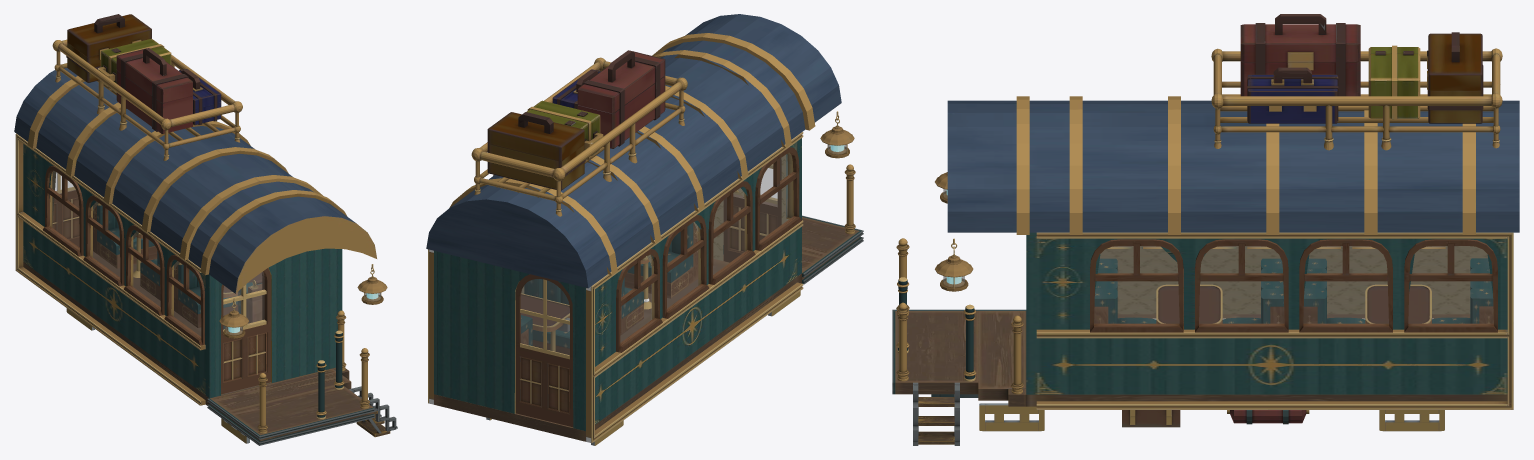
File: wagon.glb
3 renders of one model, left to right at view 1: azimuth 30°, elevation 25°; view 2: azimuth 150°, elevation 25°; view 3: azimuth 270°, elevation 25°, orthographic. The views are drawn at different scales.
Visible parts, largest first — view 1: big krisha.001_krisha_0, object 72, object 75, perednyy krisha _krisha pered_0, Cube.051_under_0, Cube.052_stavni_0, big krisha_kreplenie krishi_0, Cylinder.015_obivka_0, Cube.121_glass_0, Cube.091_red chemodan _0, Cylinder.040_bagage_0, Cube.116_orange chemodan _0 (+22 smaller); view 2: big krisha.001_krisha_0, object 75, object 72, Cube.052_stavni_0, Cube.121_glass_0, Cylinder.015_obivka_0, Cube.051_under_0, Cylinder.040_bagage_0, big krisha_kreplenie krishi_0, Cube.116_orange chemodan _0, Cube.091_red chemodan _0, perednyy krisha _krisha pered_0 (+19 smaller); view 3: big krisha.001_krisha_0, object 72, Cube.089_glass_0, Cube.051_under_0, Cube.112_stavni_0, Cylinder.074_obivka_0, object 73, perednyy krisha _krisha pered_0, Cylinder.040_bagage_0, big krisha_kreplenie krishi_0, Cube.091_red chemodan _0, Cube.116_orange chemodan _0 (+19 smaller).
Boxes of the visible parts, left/top/right/bottom form: big krisha.001_krisha_0: left=14, top=68, right=313, bottom=267; object 72: left=23, top=144, right=209, bottom=397; object 75: left=209, top=248, right=342, bottom=397; perednyy krisha _krisha pered_0: left=209, top=196, right=376, bottom=293; Cube.051_under_0: left=23, top=251, right=373, bottom=441; Cube.052_stavni_0: left=43, top=166, right=204, bottom=345; big krisha_kreplenie krishi_0: left=27, top=76, right=322, bottom=259; Cylinder.015_obivka_0: left=15, top=133, right=205, bottom=405; Cube.121_glass_0: left=50, top=171, right=200, bottom=335; Cube.091_red chemodan _0: left=116, top=48, right=192, bottom=133; Cylinder.040_bagage_0: left=52, top=39, right=242, bottom=160; Cube.116_orange chemodan _0: left=66, top=14, right=151, bottom=82; big krisha.001_krisha_0: left=426, top=40, right=805, bottom=288; object 75: left=434, top=245, right=723, bottom=431; object 72: left=595, top=138, right=801, bottom=424; Cube.052_stavni_0: left=616, top=147, right=801, bottom=352; Cube.121_glass_0: left=621, top=153, right=792, bottom=341; Cylinder.015_obivka_0: left=586, top=132, right=803, bottom=443; Cube.051_under_0: left=434, top=217, right=859, bottom=441; Cylinder.040_bagage_0: left=471, top=57, right=687, bottom=216; big krisha_kreplenie krishi_0: left=449, top=50, right=791, bottom=274; Cube.116_orange chemodan _0: left=487, top=112, right=585, bottom=190; Cube.091_red chemodan _0: left=577, top=50, right=665, bottom=148; perednyy krisha _krisha pered_0: left=685, top=14, right=841, bottom=122; big krisha.001_krisha_0: left=1029, top=100, right=1519, bottom=232; object 72: left=1026, top=232, right=1507, bottom=394; Cube.089_glass_0: left=1094, top=246, right=1493, bottom=322; Cube.051_under_0: left=895, top=311, right=1507, bottom=406; Cube.112_stavni_0: left=1090, top=239, right=1497, bottom=332; Cylinder.074_obivka_0: left=1036, top=232, right=1513, bottom=409; object 73: left=1100, top=246, right=1487, bottom=322; perednyy krisha _krisha pered_0: left=947, top=100, right=1016, bottom=232; Cylinder.040_bagage_0: left=1211, top=48, right=1502, bottom=150; big krisha_kreplenie krishi_0: left=1069, top=96, right=1475, bottom=234; Cube.091_red chemodan _0: left=1240, top=14, right=1360, bottom=96; Cube.116_orange chemodan _0: left=1427, top=32, right=1483, bottom=123.
Bounding box in the file's own units: 9.03 × 15.5 × 23.14.
Materials: 42 (38 with a texture image).
